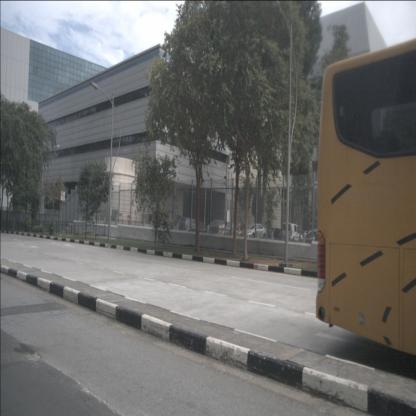vehicle-bus-rigid: (316, 33, 415, 362)
vehicle-car: (206, 219, 242, 240), (178, 216, 206, 236), (242, 223, 268, 240), (301, 229, 328, 245), (282, 223, 302, 242), (267, 227, 285, 240)
